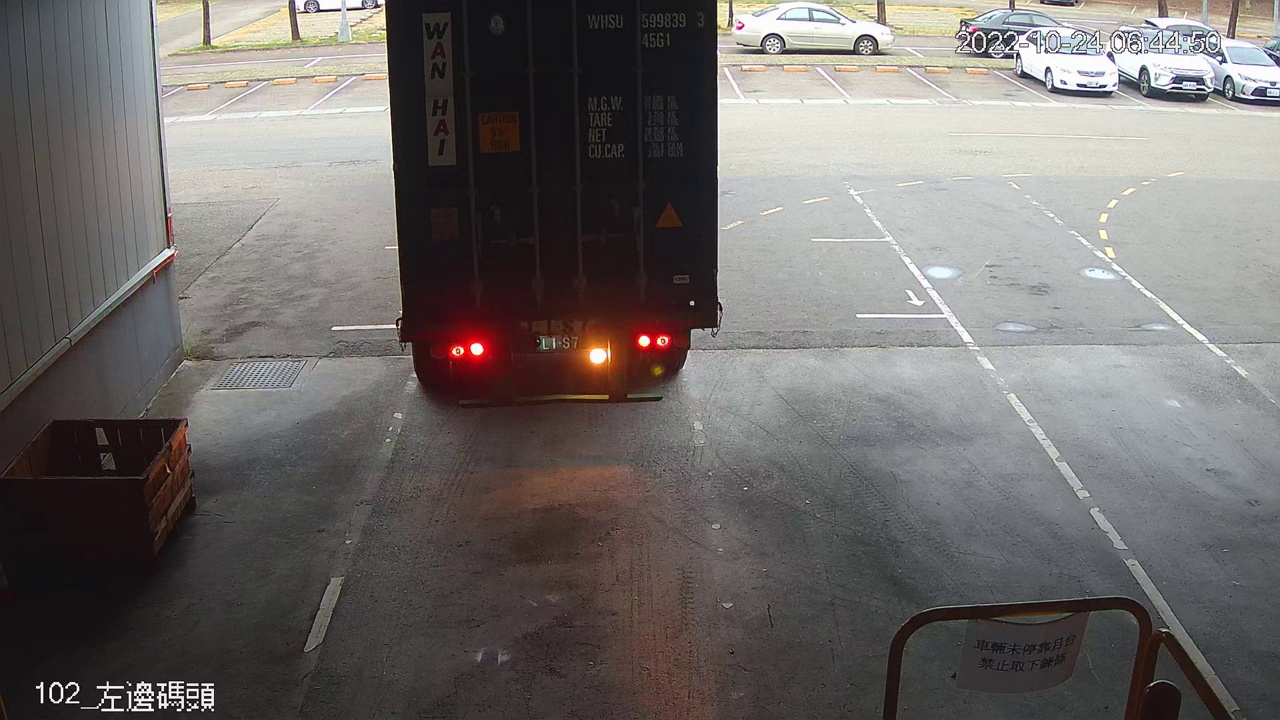container: (582, 6, 711, 52)
